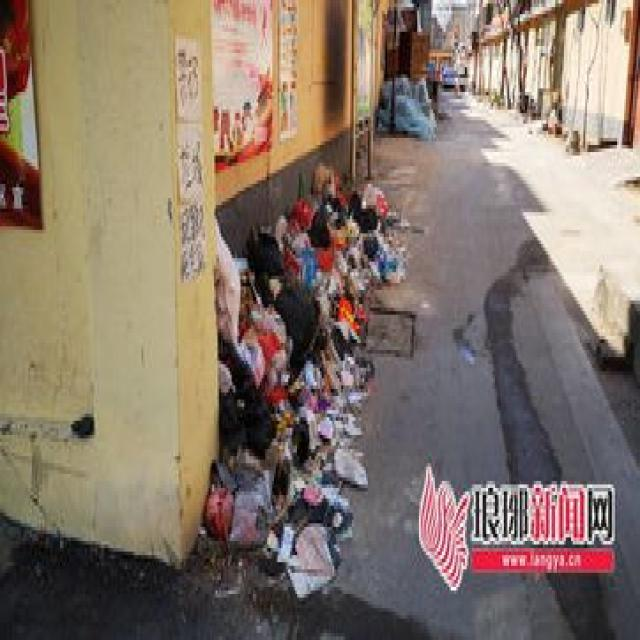garbage: (204, 159, 408, 594)
